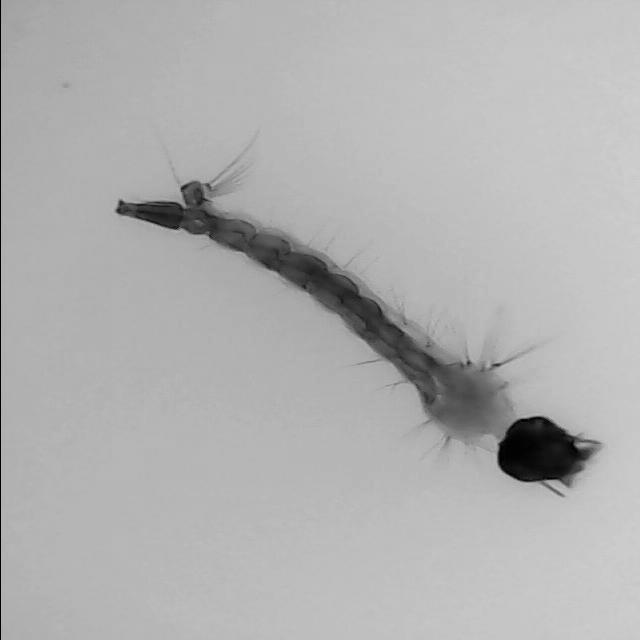larvas: (125, 182, 587, 485)
